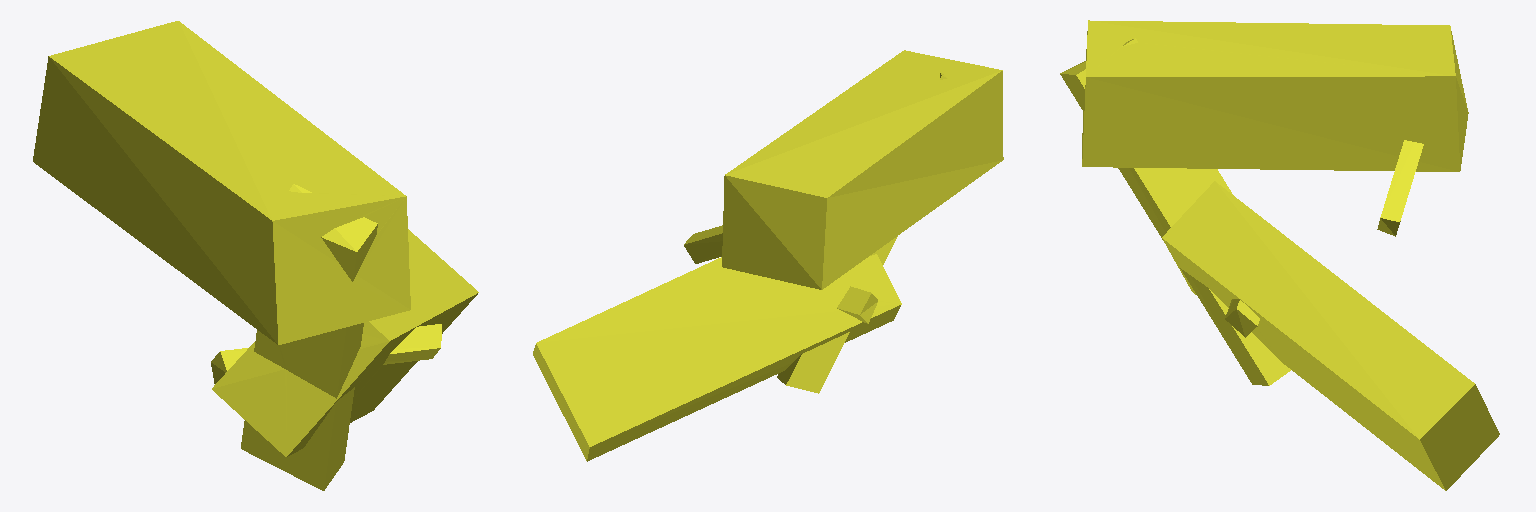
URDF robot description (blob304):

<robot name="blob304">
  <link name="random_obj_304">
    <contact>
      <lateral_friction value="1.0"/>
      <rolling_friction value="0.0"/>
      <inertia_scaling value="3.0"/>
      <contact_cfm value="0.0"/>
      <contact_erp value="1.0"/>
    </contact>
    <inertial>
      <origin rpy="0 0 0" xyz="0 0 0"/>
      <mass value="0.0236"/>
      <inertia ixx="1" ixy="0" ixz="0" iyy="1" iyz="0" izz="0"/>
    </inertial>
    <visual>
      <origin rpy="0 0 0" xyz="0 0 0"/>
      <geometry>
        <mesh filename="304.obj" scale="0.0072 0.0072 0.0072"/>
      </geometry>
      <material name="blockmat">
        <color rgba="0.90 0.90 0.25 1"/>
      </material>
    </visual>
    <collision>
      <origin rpy="0 0 0" xyz="0 0 0"/>
      <geometry>
        <mesh filename="304_coll.obj" scale="0.0072 0.0072 0.0072"/>
      </geometry>
    </collision>
  </link>
</robot>

--- Facts derived from the render (not from the file) ---
The picture shows the robot from 3 angles, left to right: view 1: azimuth 30°, elevation 25°; view 2: azimuth 150°, elevation 25°; view 3: azimuth 270°, elevation 25°; orthographic projection.
Model blob304 with 1 links and 0 joints (none), rooted at random_obj_304, posed every joint at zero.
Visible links, largest first — view 1: random_obj_304; view 2: random_obj_304; view 3: random_obj_304.
Boxes of the visible links, bbox=[...] form: random_obj_304: bbox=[33, 21, 478, 490]; random_obj_304: bbox=[533, 50, 1003, 461]; random_obj_304: bbox=[1060, 20, 1499, 490].
Bounding box of the posed robot: 0.0901 × 0.1042 × 0.0905 m (x, y, z).
1 mesh visuals loaded from 1 distinct referenced files (1 OBJ).
